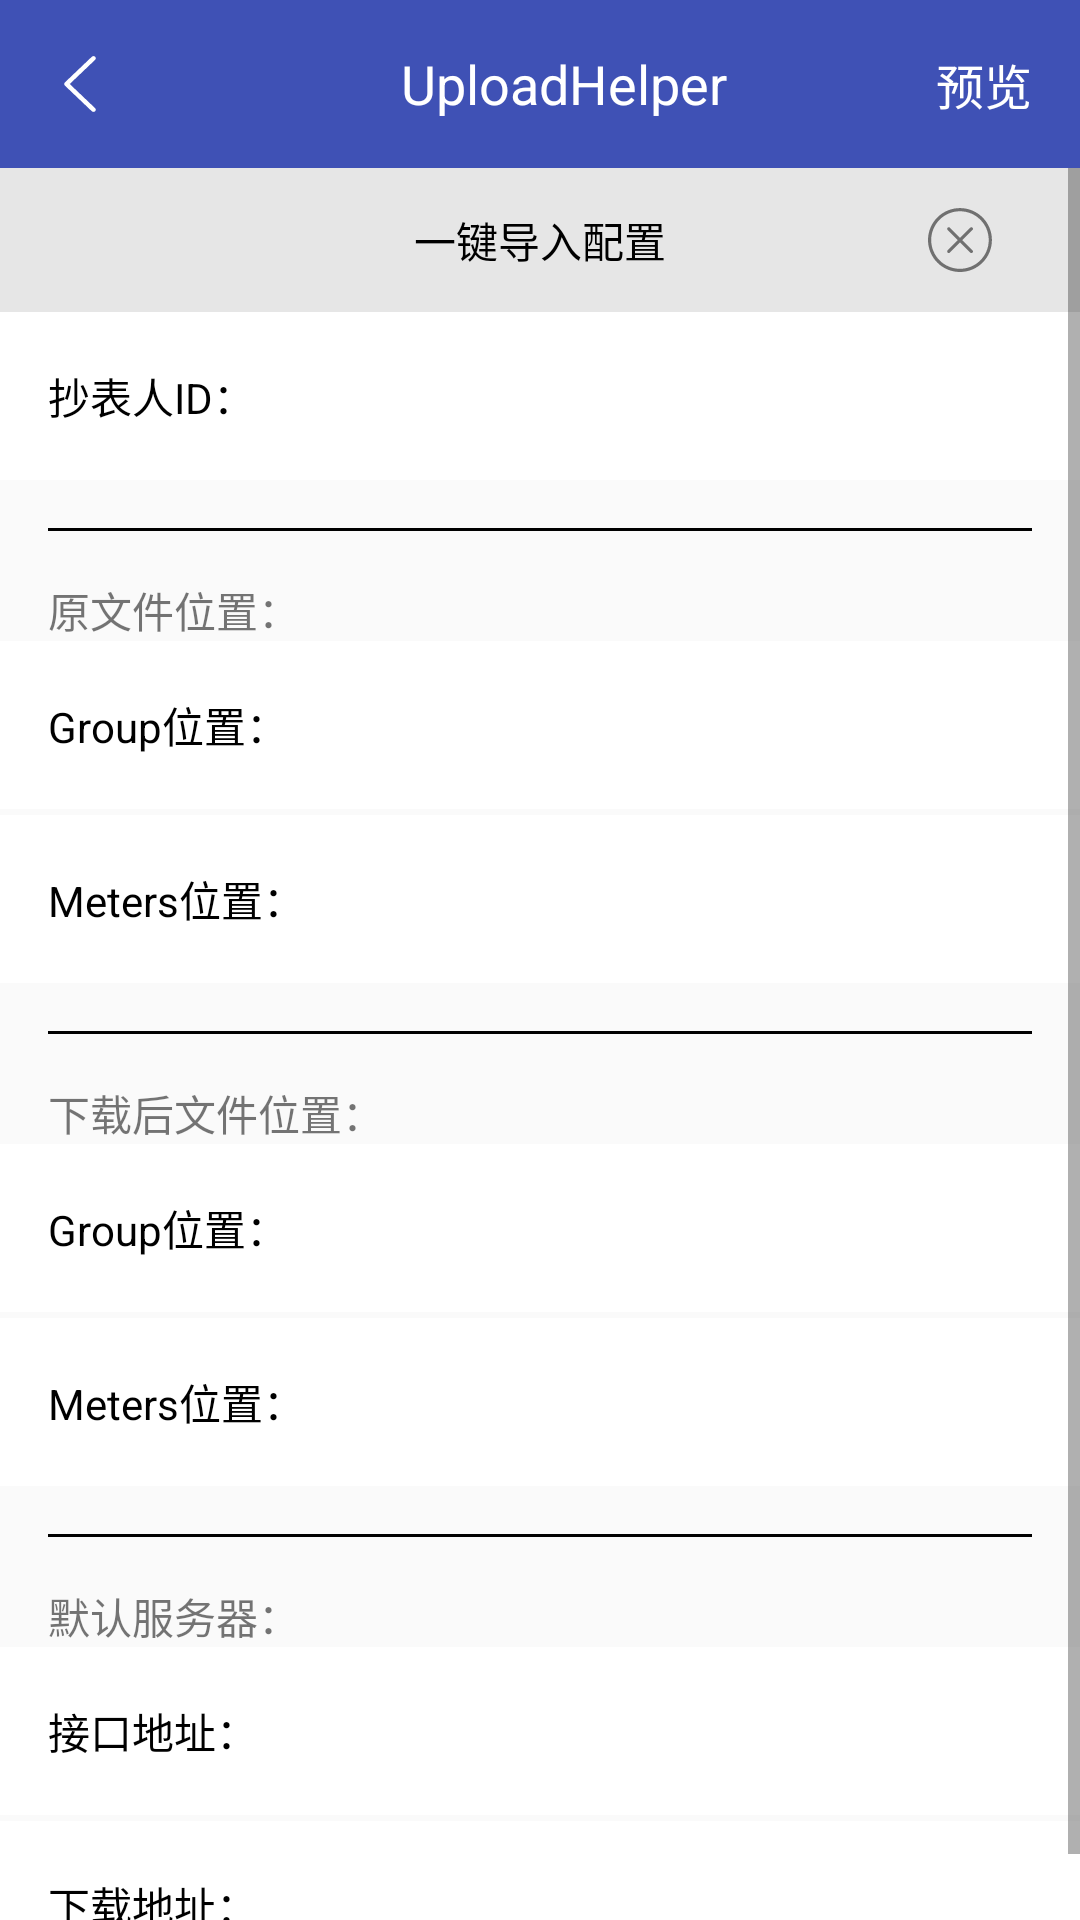

Screen size 1080px×1920px. Icon name, then its center in pixels as point (x, y):
back: point (80, 84)
